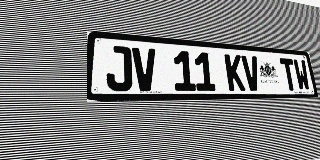1: (172, 50, 196, 91), (193, 52, 216, 91)
J: (106, 45, 133, 91)
K: (224, 54, 245, 91)
T: (279, 58, 298, 91)
V: (132, 47, 158, 91), (241, 55, 262, 91)
W: (293, 59, 311, 91)
